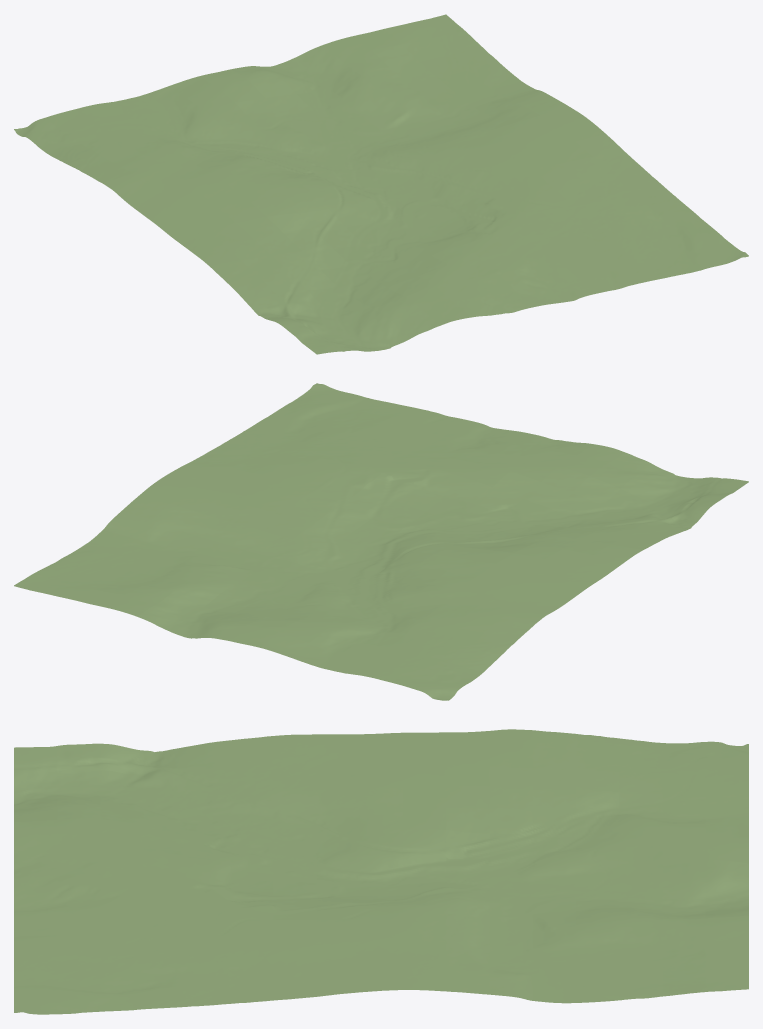
The model's file is terrain_lod2.glb.
3 views of the same model, one above another, from view 1: azimuth 30°, elevation 25°; view 2: azimuth 150°, elevation 25°; view 3: azimuth 270°, elevation 25° (orthographic). The views are drawn at different scales.
Visible parts, largest first — view 1: t_2_0, t_9_16, t_9_13, t_3_0, t_5_13, t_9_12, t_10_12, t_0_3, t_5_7, t_8_8, t_8_9, t_8_0 (+151 smaller); view 2: t_6_4, t_10_10, t_7_4, t_3_2, t_12_11, t_5_3, t_11_10, t_9_10, t_4_3, t_13_11, t_0_14, t_5_4 (+98 smaller); view 3: t_0_1, t_0_2, t_6_8, t_5_9, t_5_10, t_1_0, t_3_13, t_4_11, t_6_9, t_3_6, t_0_0, t_3_5 (+223 smaller).
Part boxes in pixels (<box>): t_2_0: <box>361,321,409,350</box>; t_9_16: <box>292,45,339,74</box>; t_9_13: <box>345,88,393,115</box>; t_3_0: <box>392,310,440,338</box>; t_5_13: <box>222,120,269,145</box>; t_9_12: <box>363,105,411,130</box>; t_10_12: <box>394,98,442,122</box>; t_0_3: <box>245,294,293,317</box>; t_5_7: <box>329,204,376,227</box>; t_8_8: <box>403,163,451,190</box>; t_8_9: <box>386,151,433,177</box>; t_8_0: <box>546,277,594,302</box>; t_6_4: <box>444,477,492,503</box>; t_10_10: <box>213,522,261,549</box>; t_7_4: <box>413,468,460,495</box>; t_3_2: <box>572,476,620,504</box>; t_12_11: <box>134,520,182,547</box>; t_5_3: <box>493,471,540,498</box>; t_11_10: <box>183,513,230,540</box>; t_9_10: <box>245,531,292,557</box>; t_4_3: <box>524,482,571,509</box>; t_13_11: <box>103,511,151,537</box>; t_0_14: <box>451,646,499,673</box>; t_5_4: <box>475,487,522,514</box>; t_0_1: <box>57,743,100,773</box>; t_0_2: <box>100,743,143,774</box>; t_6_8: <box>360,854,402,881</box>; t_5_9: <box>403,829,446,857</box>; t_5_10: <box>446,830,489,858</box>; t_1_0: <box>14,770,57,797</box>; t_3_13: <box>576,790,619,817</box>; t_4_11: <box>489,808,532,835</box>; t_6_9: <box>403,854,446,880</box>; t_3_6: <box>273,796,316,824</box>; t_0_0: <box>14,746,57,772</box>; t_3_5: <box>230,800,273,828</box>.
Bounding box in the file's own units: 3584 × 226 × 4352.
